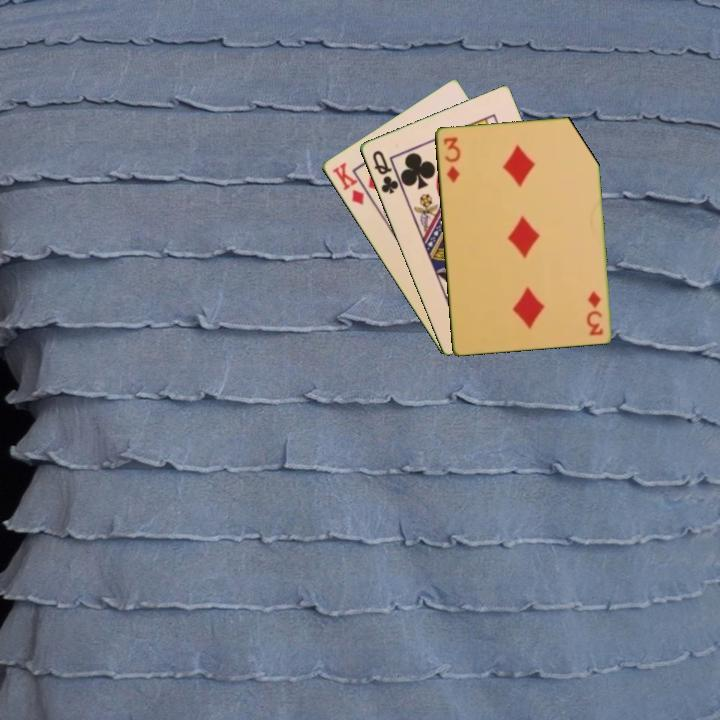3d: (439, 133, 462, 185), (584, 287, 605, 338)
Kd: (328, 158, 367, 208)
Qc: (368, 147, 401, 197)
